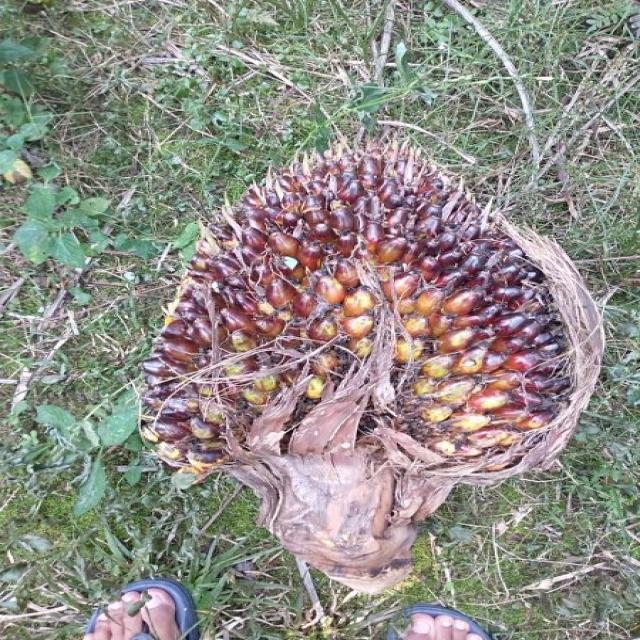fraksi 1: (120, 85, 613, 541)
